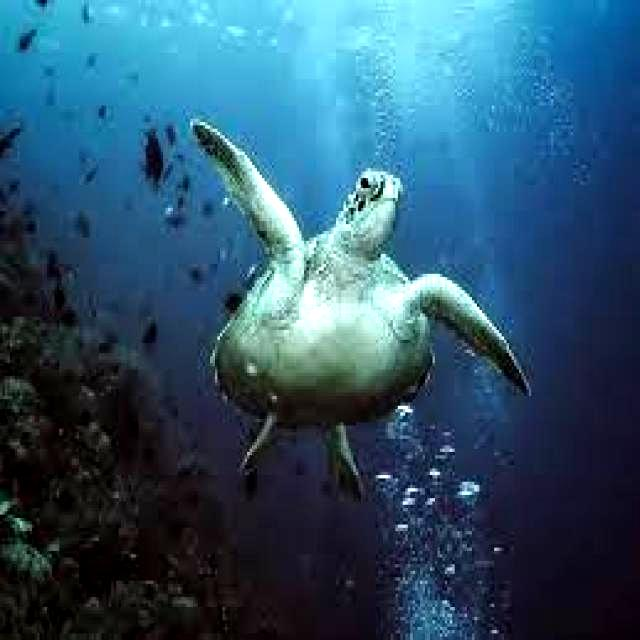Sea turtle: (184, 122, 542, 517)
